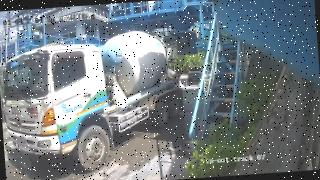cement_mixer_truck: (0, 30, 182, 170)
